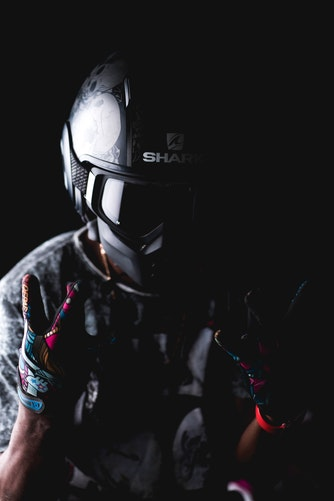helmet: (54, 59, 230, 259)
